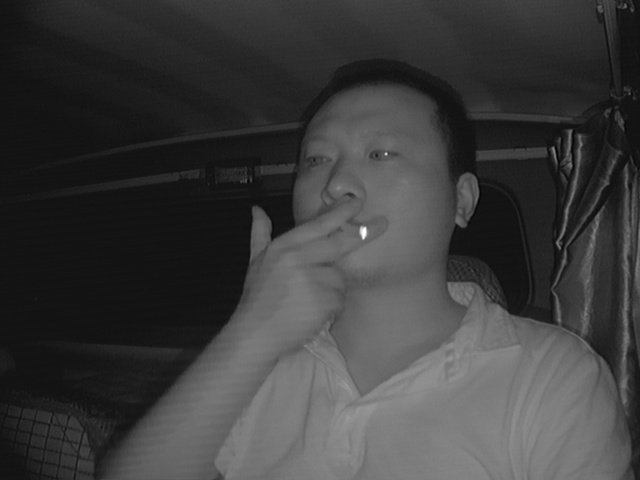hand: (283, 195, 390, 317)
